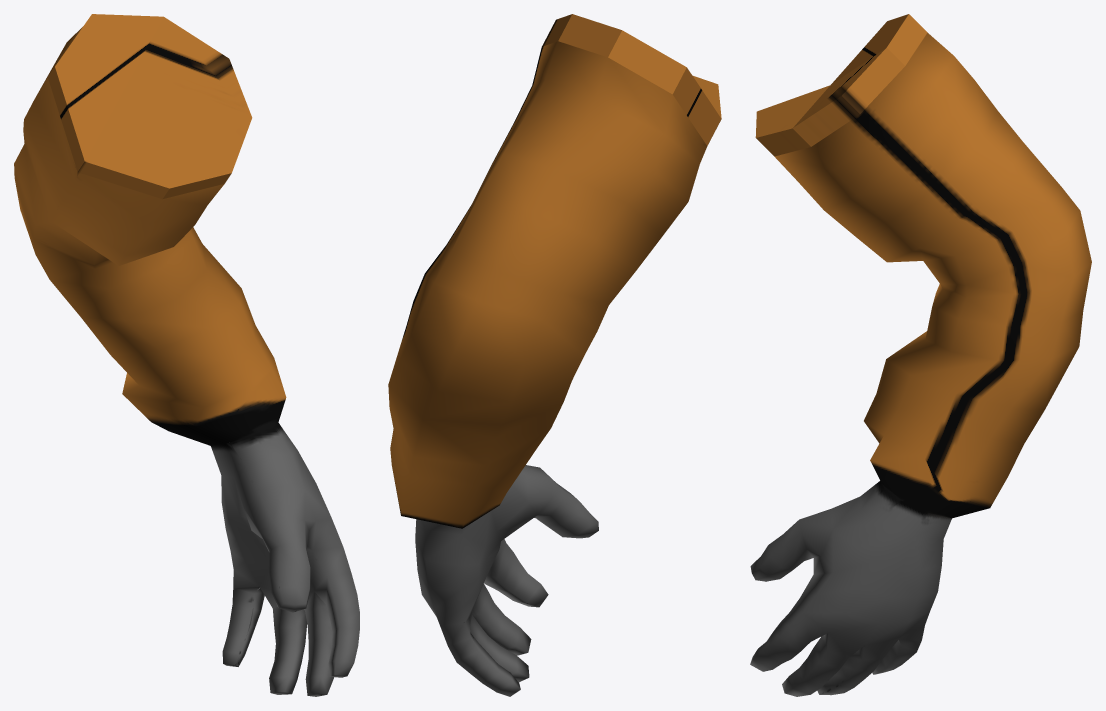
File: Character_test02Arm.fbx
3 renders of one model, left to right at view 1: azimuth 30°, elevation 25°; view 2: azimuth 150°, elevation 25°; view 3: azimuth 270°, elevation 25°, orthographic. The views are drawn at different scales.
Parts seen in each view (by area): view 1: Arm_Geo1; view 2: Arm_Geo1; view 3: Arm_Geo1.
Part boxes in pixels (<box>): Arm_Geo1: <box>14,14,359,696</box>; Arm_Geo1: <box>388,14,721,696</box>; Arm_Geo1: <box>750,14,1091,696</box>.
Bounding box in the file's own units: 19.92 × 49.9 × 25.02.
1 material, 1 textured.
